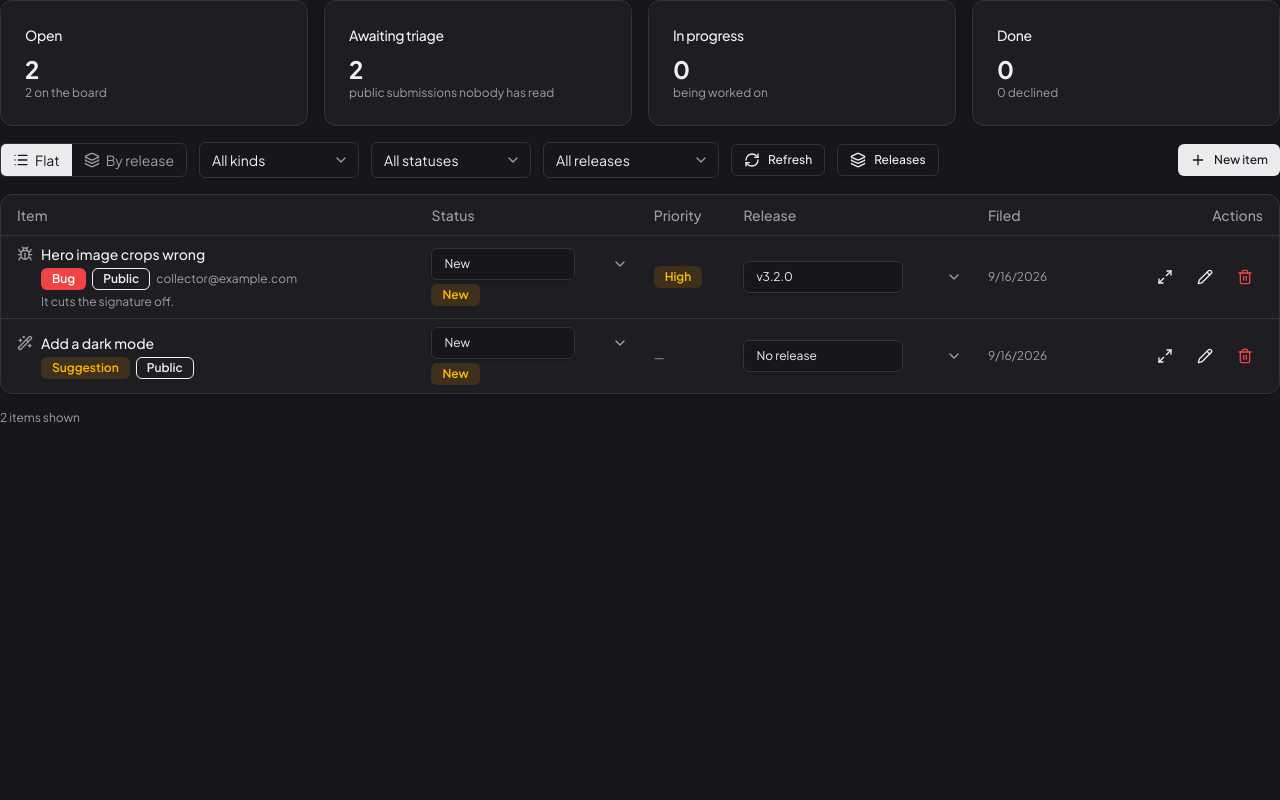
Test: PlanningView — the item drawer › shows source_ref as text and offers nothing to type
Expected: the button "Hero image crops wrong" is shown, [41,244,205,264]
Click the button titled "Open" in the row of "Bug".
click(1165, 276)  # box [1147,258,1183,294]
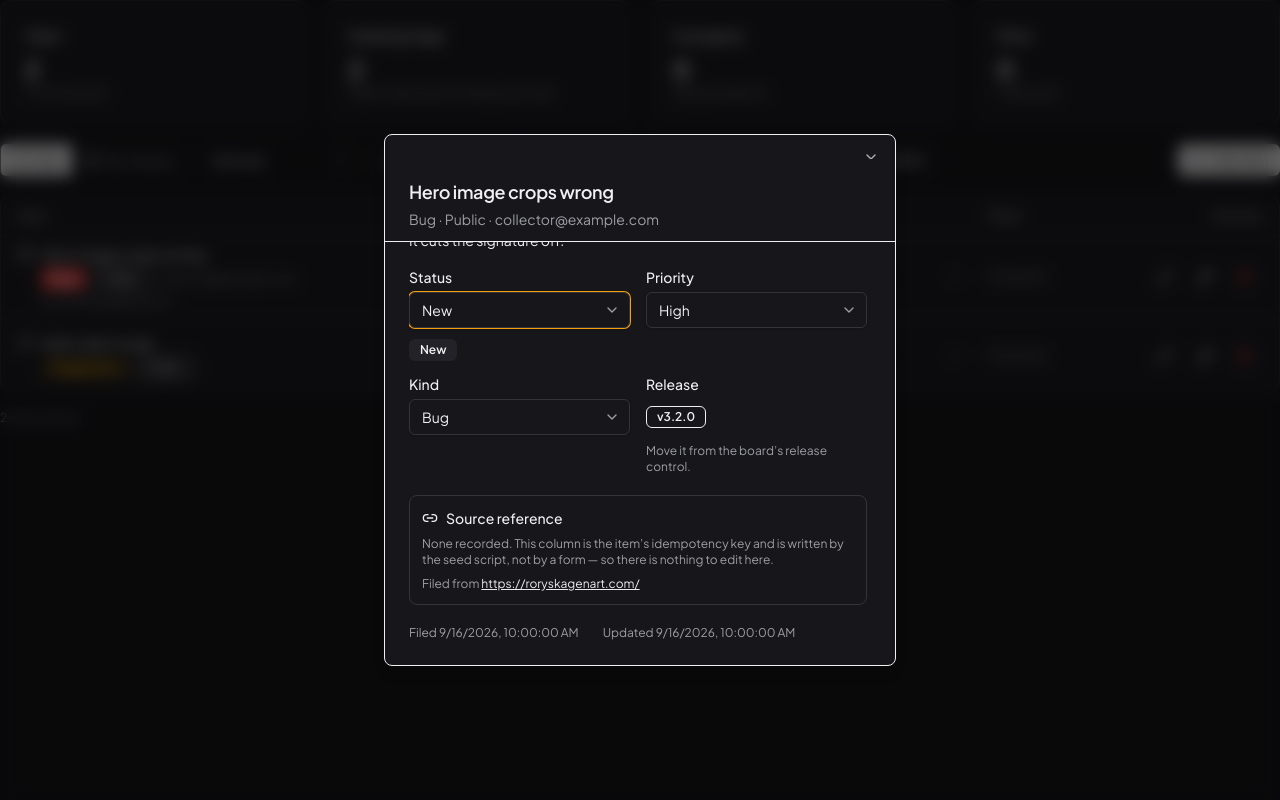
Expected: the text "Source reference" is shown, [422,509,563,527]
Expected: the text "idempotency key" is shown, [422,536,844,567]
